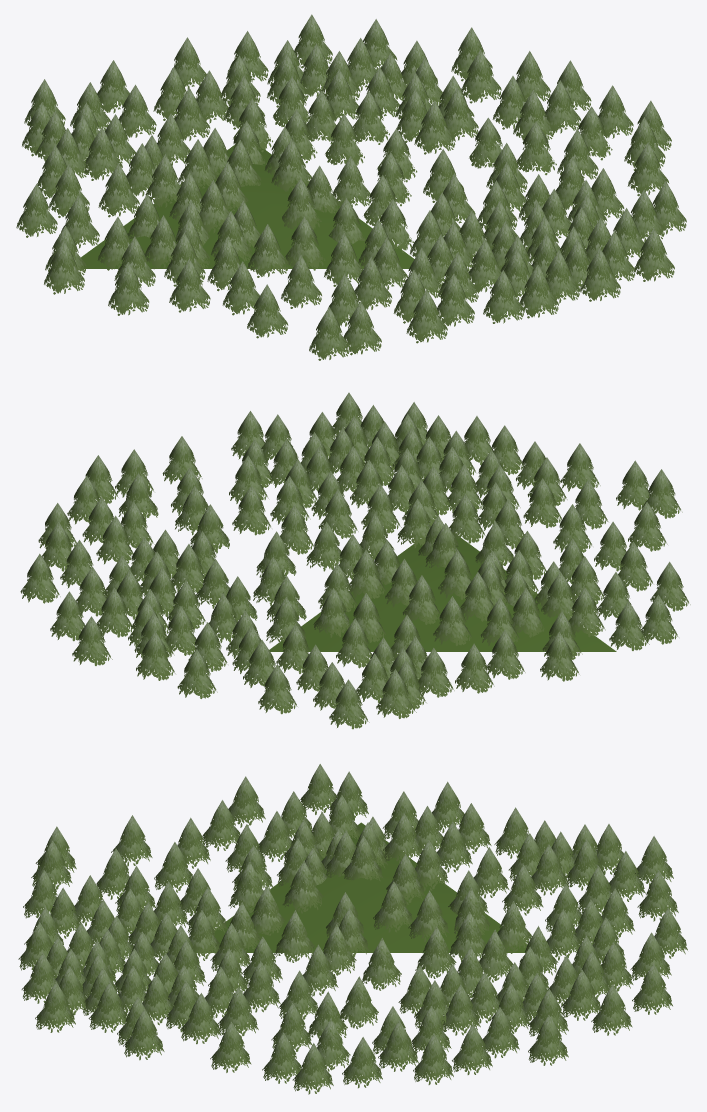
File: SM_ForestTile2.fbx
3 views of the same model, one above another, from view 1: azimuth 30°, elevation 25°; view 2: azimuth 150°, elevation 25°; view 3: azimuth 270°, elevation 25° (orthographic). The views are drawn at different scales.
Parts seen in each view (by area): view 1: SM_Trees, SM_Hill; view 2: SM_Trees, SM_Hill; view 3: SM_Trees, SM_Hill.
Boxes of the visible parts, left/top/right/bottom form: SM_Trees: left=16, top=14, right=686, bottom=360; SM_Hill: left=81, top=145, right=414, bottom=268; SM_Trees: left=20, top=392, right=690, bottom=729; SM_Hill: left=269, top=537, right=616, bottom=651; SM_Trees: left=18, top=764, right=687, bottom=1094; SM_Hill: left=194, top=822, right=527, bottom=952.
Size of the model in its own units: 89.93 by 9.51 by 86.02.
